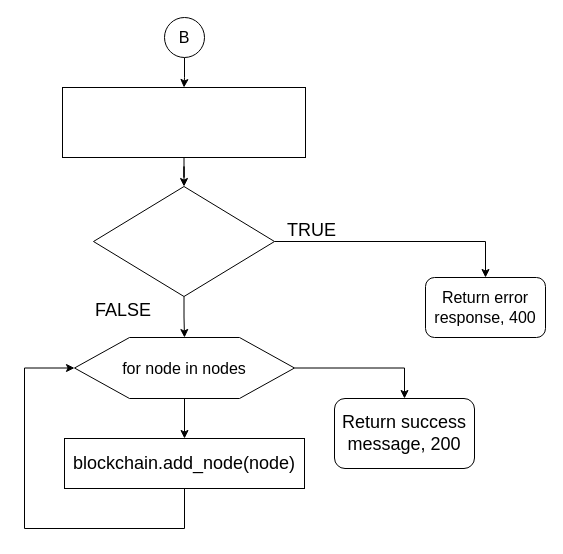
Some shapes in this 563 by 554 pixel diagram are drawn without their labels. The box of each missing label's shape, as (x1, y1, x2, y2) in pixels:
nodes == None: (92, 186, 274, 296)
Store requested nodes to add in nodes: (62, 86, 306, 158)
